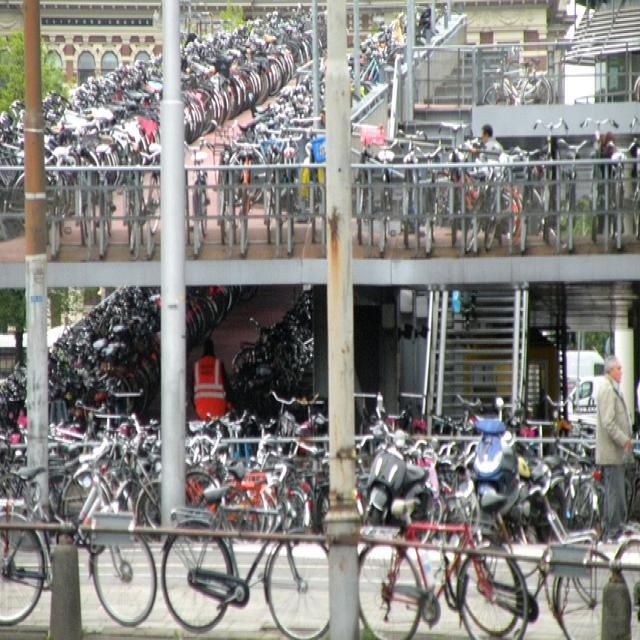motor: (362, 392, 437, 527), (459, 396, 525, 526), (372, 13, 406, 48)
